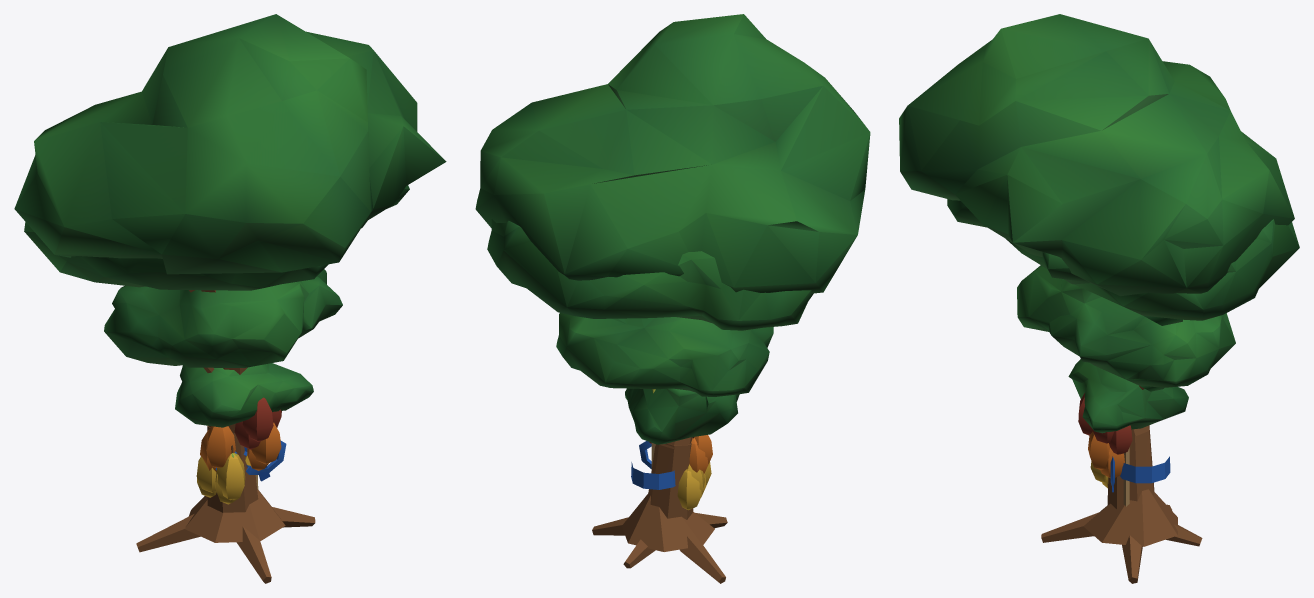
The model's file is cocoa_tree.glb.
3 views of the same model, side by side, from view 1: azimuth 30°, elevation 25°; view 2: azimuth 150°, elevation 25°; view 3: azimuth 270°, elevation 25° (orthographic). The views are drawn at different scales.
Parts seen in each view (by area): view 1: tree-cocoa_tree-mature-heirloom, tree-cocoa_tree-young, tree-cocoa_tree-sapling, tree-cocoa_tree-mature, tree-cocoa_tree-ready-heirloom, tree-cocoa_tree-ready; view 2: tree-cocoa_tree-mature-heirloom, tree-cocoa_tree-mature, tree-cocoa_tree-young, tree-cocoa_tree-sapling, tree-cocoa_tree-ready, tree-cocoa_tree-ready-heirloom; view 3: tree-cocoa_tree-mature-heirloom, tree-cocoa_tree-young, tree-cocoa_tree-mature, tree-cocoa_tree-sapling, tree-cocoa_tree-ready-heirloom, tree-cocoa_tree-ready.
Boxes of the visible parts, x1=… form: tree-cocoa_tree-mature-heirloom: x1=14, y1=14, x2=446, y2=583; tree-cocoa_tree-young: x1=104, y1=269, x2=342, y2=372; tree-cocoa_tree-sapling: x1=175, y1=363, x2=313, y2=489; tree-cocoa_tree-mature: x1=24, y1=185, x2=409, y2=292; tree-cocoa_tree-ready-heirloom: x1=196, y1=397, x2=281, y2=500; tree-cocoa_tree-ready: x1=197, y1=421, x2=268, y2=504; tree-cocoa_tree-mature-heirloom: x1=475, y1=14, x2=870, y2=583; tree-cocoa_tree-mature: x1=487, y1=219, x2=813, y2=330; tree-cocoa_tree-young: x1=556, y1=313, x2=773, y2=396; tree-cocoa_tree-sapling: x1=625, y1=388, x2=739, y2=468; tree-cocoa_tree-ready: x1=649, y1=389, x2=708, y2=510; tree-cocoa_tree-ready-heirloom: x1=687, y1=435, x2=712, y2=492; tree-cocoa_tree-mature-heirloom: x1=899, y1=14, x2=1294, y2=583; tree-cocoa_tree-young: x1=1017, y1=265, x2=1235, y2=391; tree-cocoa_tree-mature: x1=947, y1=199, x2=1299, y2=325; tree-cocoa_tree-sapling: x1=1068, y1=359, x2=1188, y2=506; tree-cocoa_tree-ready-heirloom: x1=1078, y1=393, x2=1114, y2=482; tree-cocoa_tree-ready: x1=1100, y1=425, x2=1132, y2=488.
Bounding box in the file's own units: 3.47 × 4.79 × 3.34.
